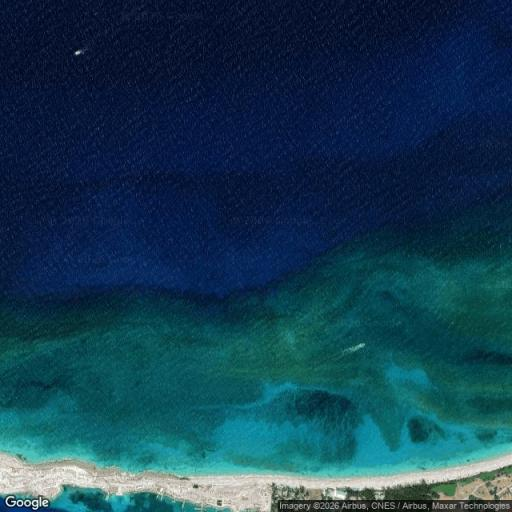ship: (341, 340, 377, 352), (69, 49, 92, 61)
